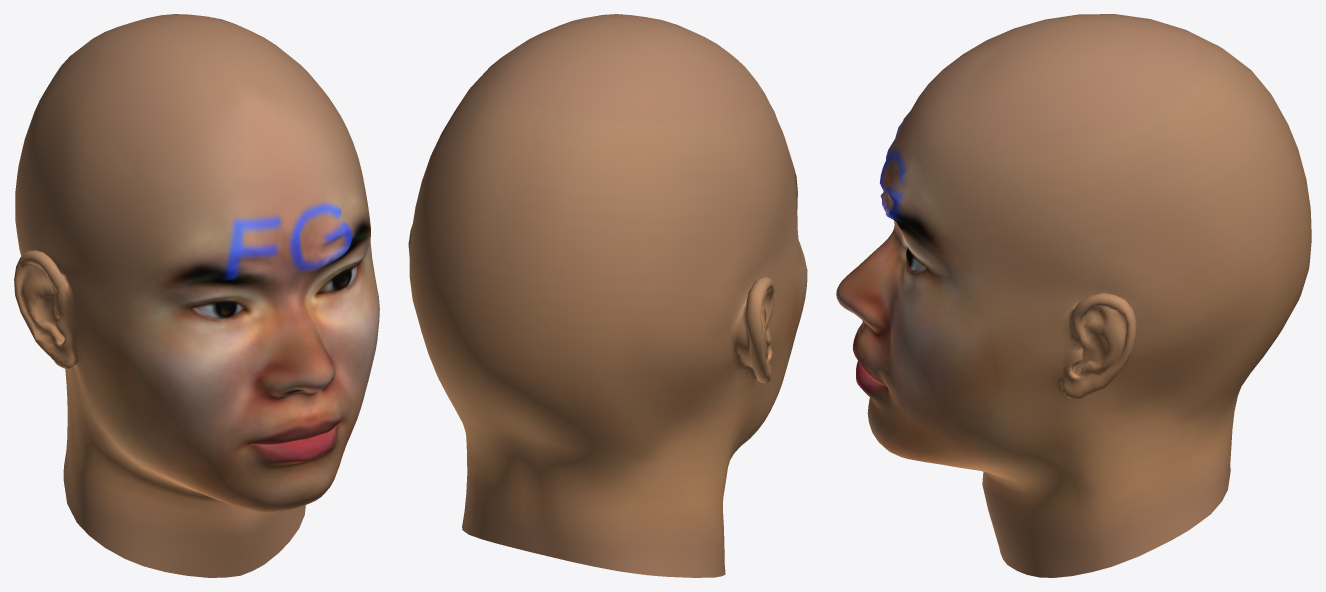
The model's file is avg_anyrace_male_12.obj.
The picture shows the model from 3 angles, left to right: view 1: azimuth 30°, elevation 25°; view 2: azimuth 150°, elevation 25°; view 3: azimuth 270°, elevation 25°; orthographic projection. The views are drawn at different scales.
Parts seen in each view (by area): view 1: HeadHires; view 2: HeadHires; view 3: HeadHires.
Part boxes in pixels (x1=…): HeadHires: x1=14, y1=14, x2=379, y2=577; HeadHires: x1=408, y1=14, x2=807, y2=577; HeadHires: x1=836, y1=14, x2=1311, y2=577.
Size of the model in its own units: 191 by 283 by 233.
3 materials, 3 textured.
